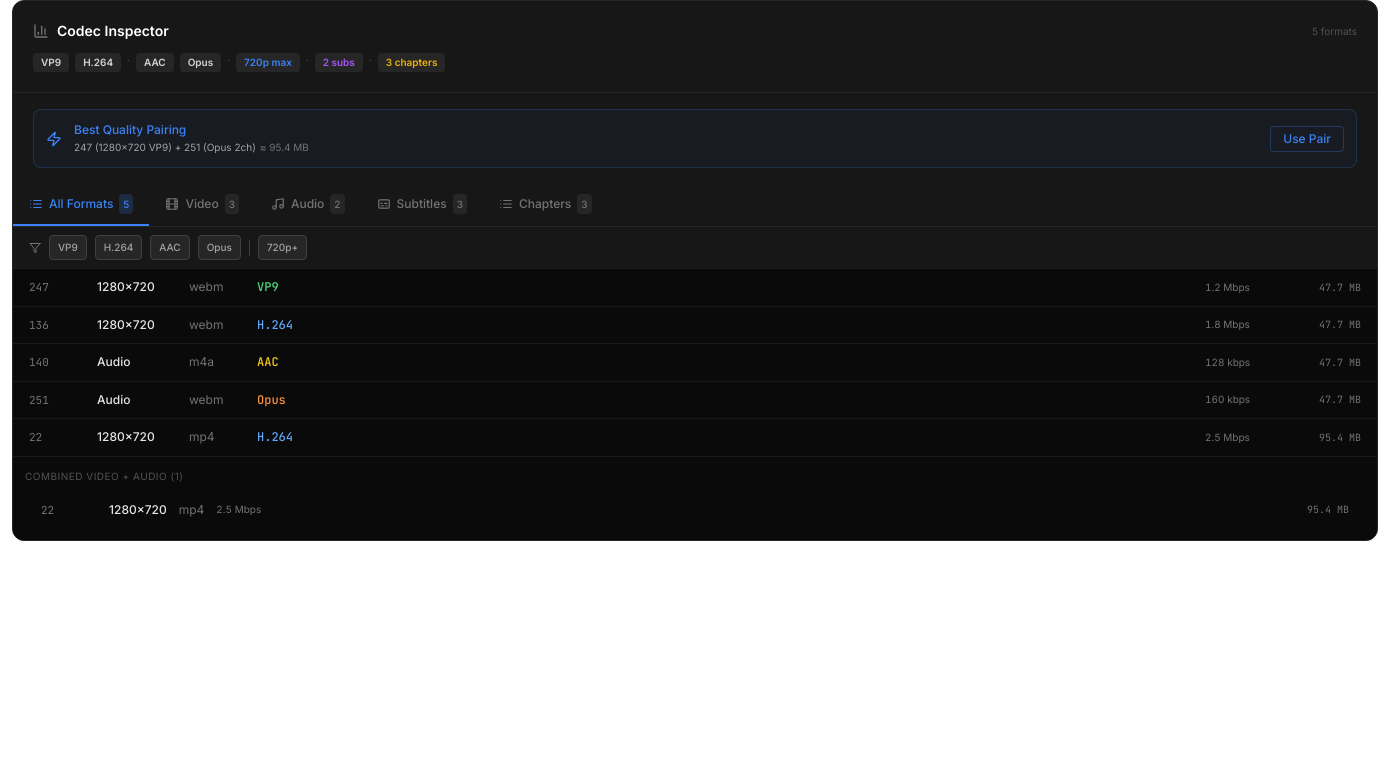
FormatInspector › switches to audio tab
The width and height of the screenshot is (1390, 768).
Click the button "Audio 2" at (308, 205), box x1=255 y1=184 x2=360 y2=226
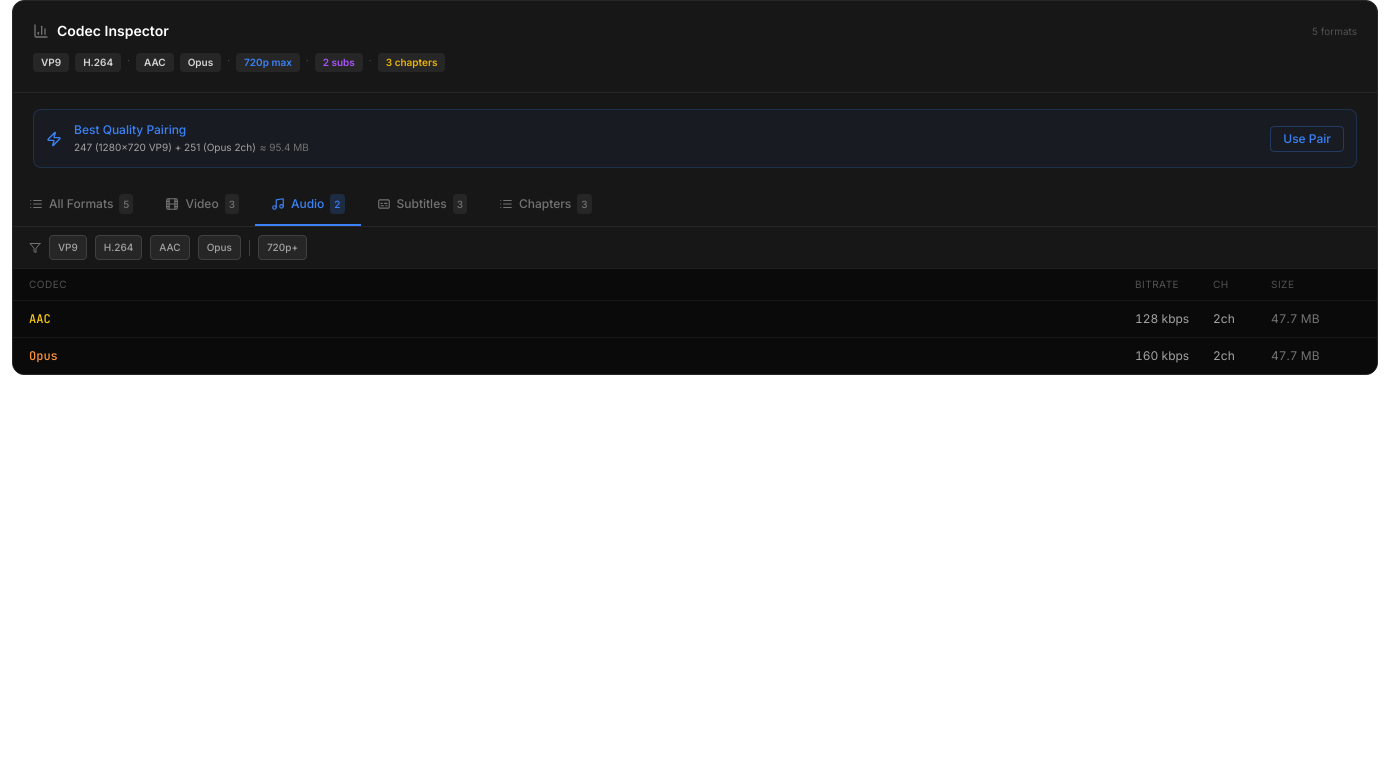
Expected: the text "Ch" is shown, x1=1213 y1=278 x2=1229 y2=290
